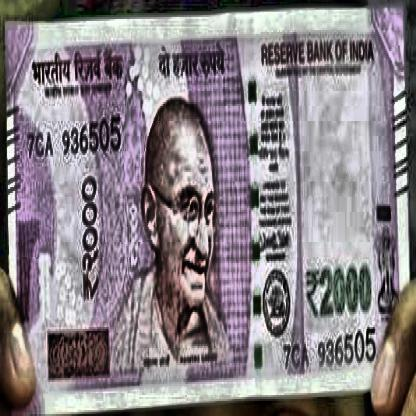Rs2000: (305, 257, 376, 329)
